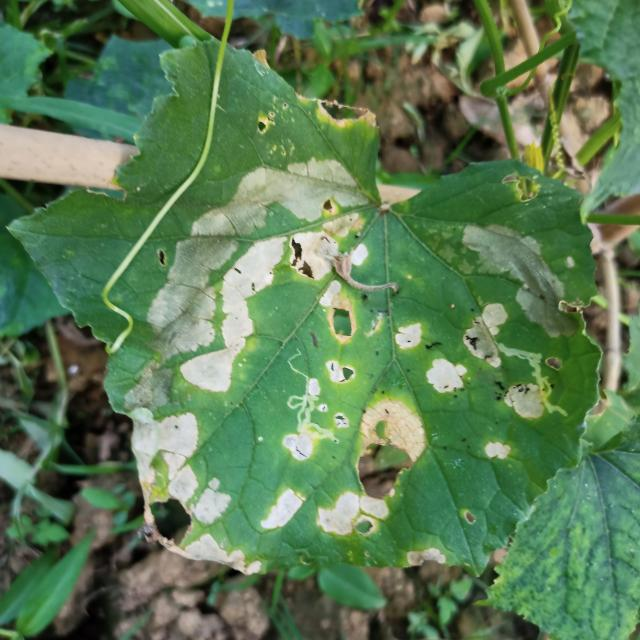disease_cucumber: (128, 382, 452, 578), (133, 142, 378, 395), (393, 215, 579, 472)
